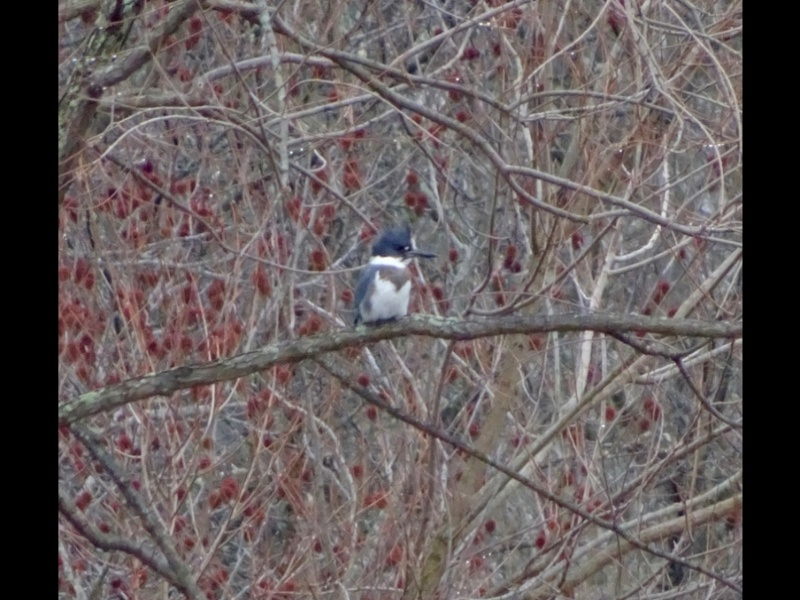kingfisher: (351, 225, 439, 329)
